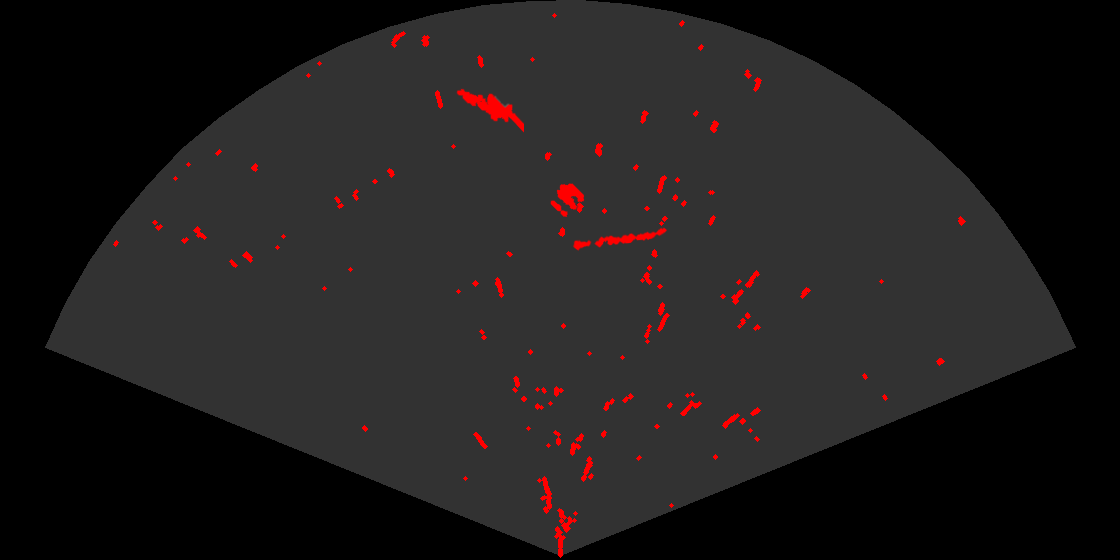ball: (549, 182, 586, 219)
chain: (571, 226, 669, 252)
frogman: (455, 87, 524, 134)
